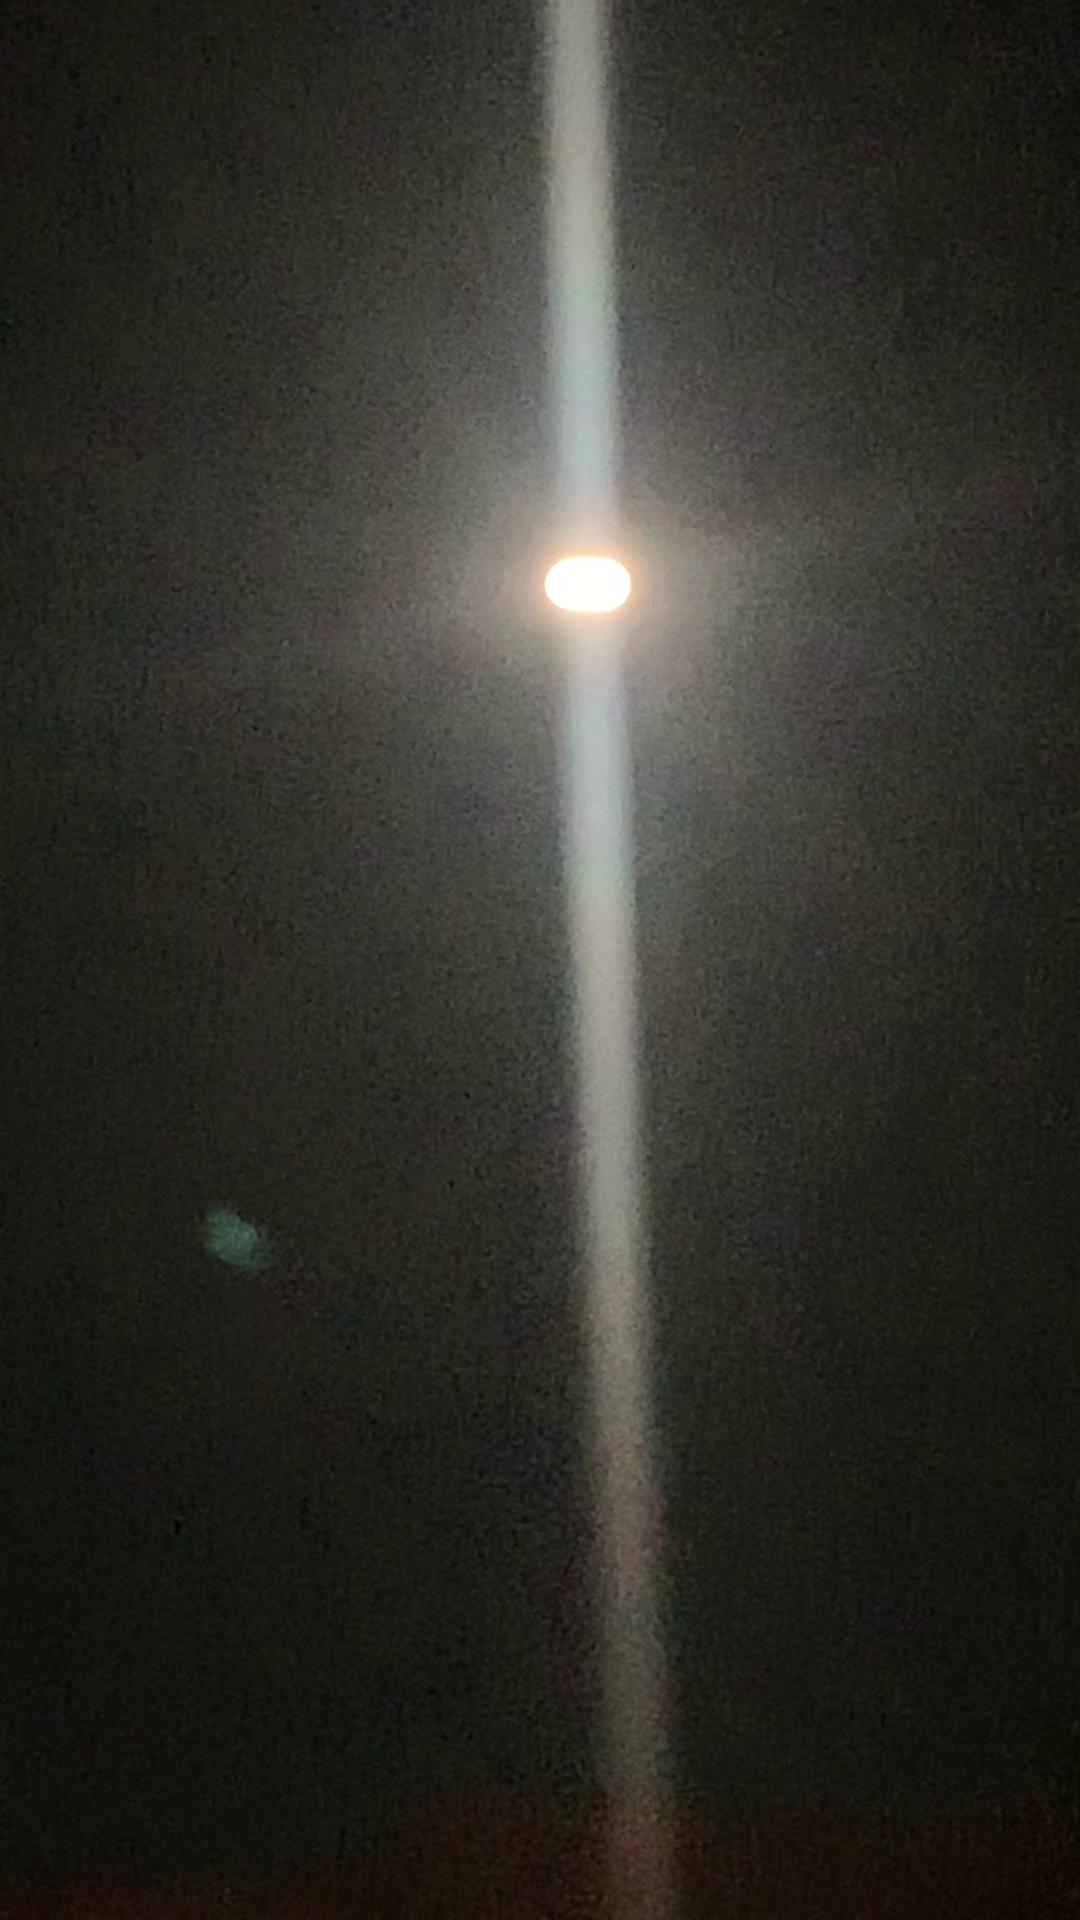moon: (534, 520, 663, 646)
